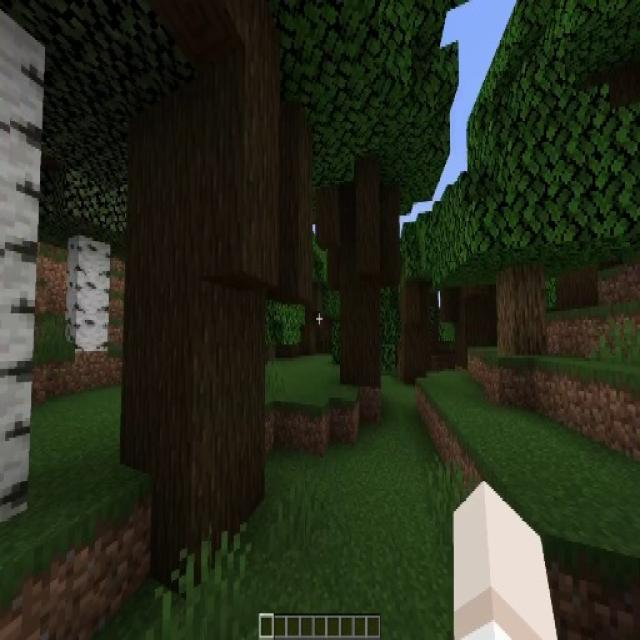birch: (34, 104, 144, 352)
birch_log: (68, 241, 111, 352)
dark_oak: (295, 48, 448, 389), (438, 179, 503, 373)
dark_oak_log: (121, 23, 301, 567), (325, 168, 391, 388), (402, 286, 433, 388), (454, 283, 486, 364)
oak: (438, 56, 636, 365)
oak_log: (500, 266, 546, 362)
